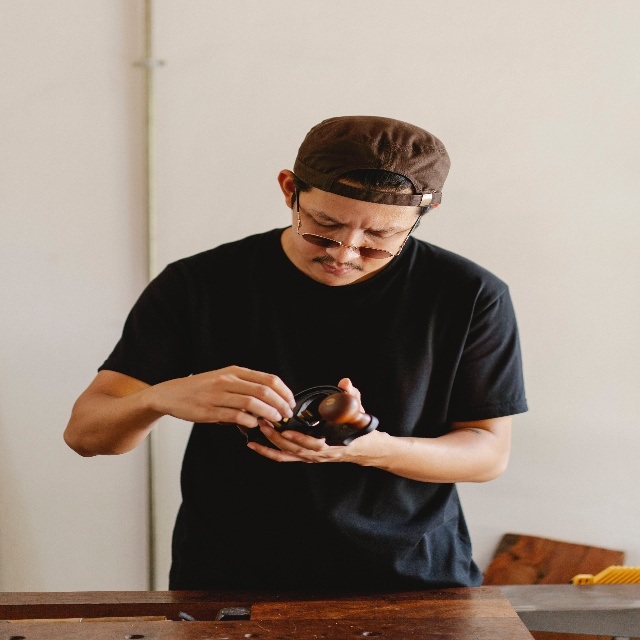Gafas: (294, 190, 421, 259)
Sin_guantes: (246, 377, 376, 467), (161, 365, 296, 427)
